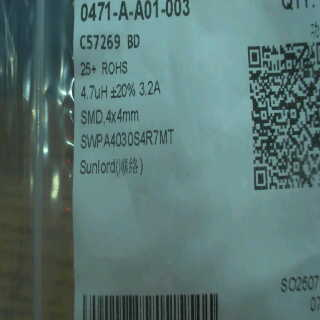4.7uH: (78, 82, 110, 104)
